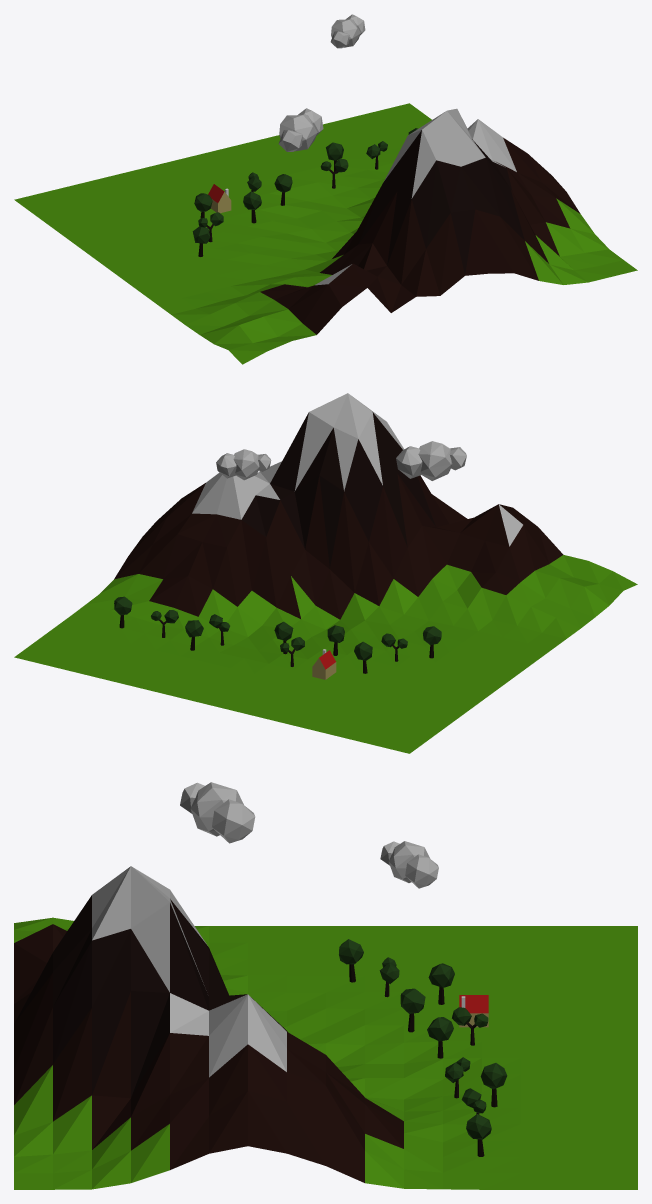
The model's file is valley.obj.
3 renders of one model, top to bottom at view 1: azimuth 30°, elevation 25°; view 2: azimuth 150°, elevation 25°; view 3: azimuth 270°, elevation 25°, orthographic. The views are drawn at different scales.
Parts seen in each view (by area): view 1: Terrain_Plane.001, Cloud.001_Icosphere.009, Cloud_Icosphere.004; view 2: Terrain_Plane.001, Cloud.001_Icosphere.009, Cloud_Icosphere.004, Cube.002; view 3: Terrain_Plane.001, Cloud.001_Icosphere.009, Cloud_Icosphere.004, Tree.007_Cylinder.010, Tree.004_Cylinder.007, Cube.002, Tree.003_Cylinder.006, Tree_Cylinder, Tree.006_Cylinder.009, Tree.001_Cylinder.004.
Boxes of the visible parts, bbox=[...] form: Terrain_Plane.001: bbox=[14, 103, 637, 364]; Cloud.001_Icosphere.009: bbox=[278, 108, 323, 151]; Cloud_Icosphere.004: bbox=[330, 14, 365, 48]; Terrain_Plane.001: bbox=[14, 393, 637, 753]; Cloud.001_Icosphere.009: bbox=[396, 441, 466, 480]; Cloud_Icosphere.004: bbox=[216, 449, 271, 480]; Cube.002: bbox=[312, 650, 336, 679]; Terrain_Plane.001: bbox=[14, 866, 637, 1189]; Cloud.001_Icosphere.009: bbox=[180, 782, 255, 843]; Cloud_Icosphere.004: bbox=[380, 841, 438, 888]; Tree.007_Cylinder.010: bbox=[400, 988, 425, 1032]; Tree.004_Cylinder.007: bbox=[480, 1063, 507, 1107]; Cube.002: bbox=[459, 995, 488, 1027]; Tree.003_Cylinder.006: bbox=[466, 1114, 491, 1156]; Tree_Cylinder: bbox=[339, 939, 363, 982]; Tree.006_Cylinder.009: bbox=[428, 963, 454, 1004]; Tree.001_Cylinder.004: bbox=[427, 1017, 453, 1058].
Bounding box in the file's own units: 16.55 × 7.58 × 16.55.
